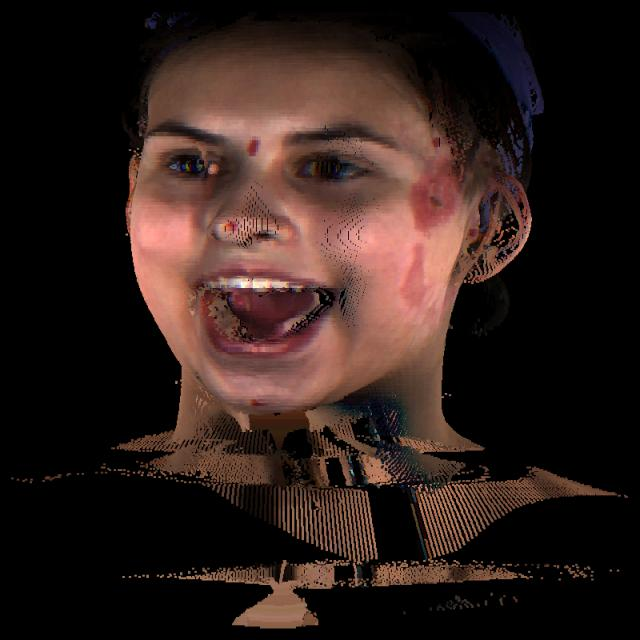burn: (409, 159, 459, 239), (400, 244, 432, 308)
